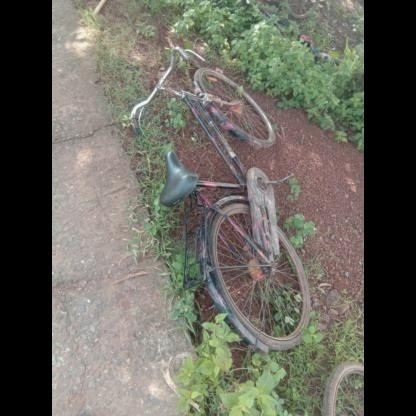Bicycle: (120, 31, 332, 399)
